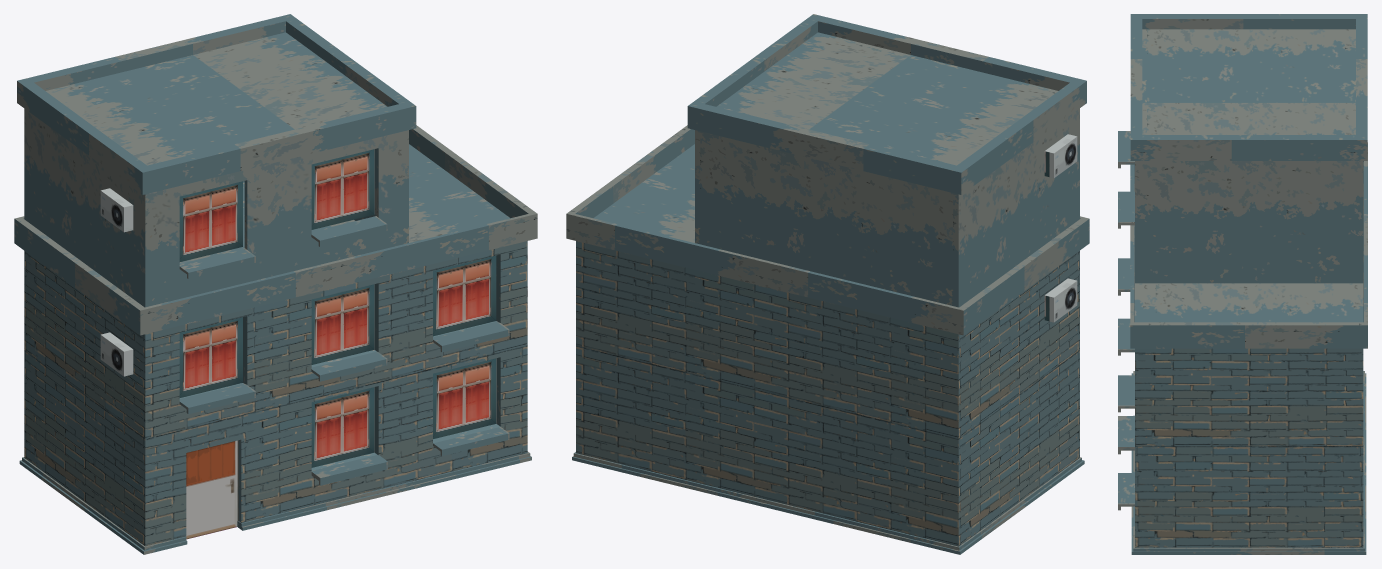
File: Building01.fbx
3 renders of one model, left to right at view 1: azimuth 30°, elevation 25°; view 2: azimuth 150°, elevation 25°; view 3: azimuth 270°, elevation 25°, orthographic. The views are drawn at different scales.
Visible parts, largest first — view 1: Cube.004; view 2: Cube.004; view 3: Cube.004.
Part boxes in pixels (x1,y1,x2,y2): Cube.004: (14,14,537,554); Cube.004: (566,14,1089,554); Cube.004: (1118,14,1367,554).
Size of the model in its own units: 1256 by 1151 by 721.
